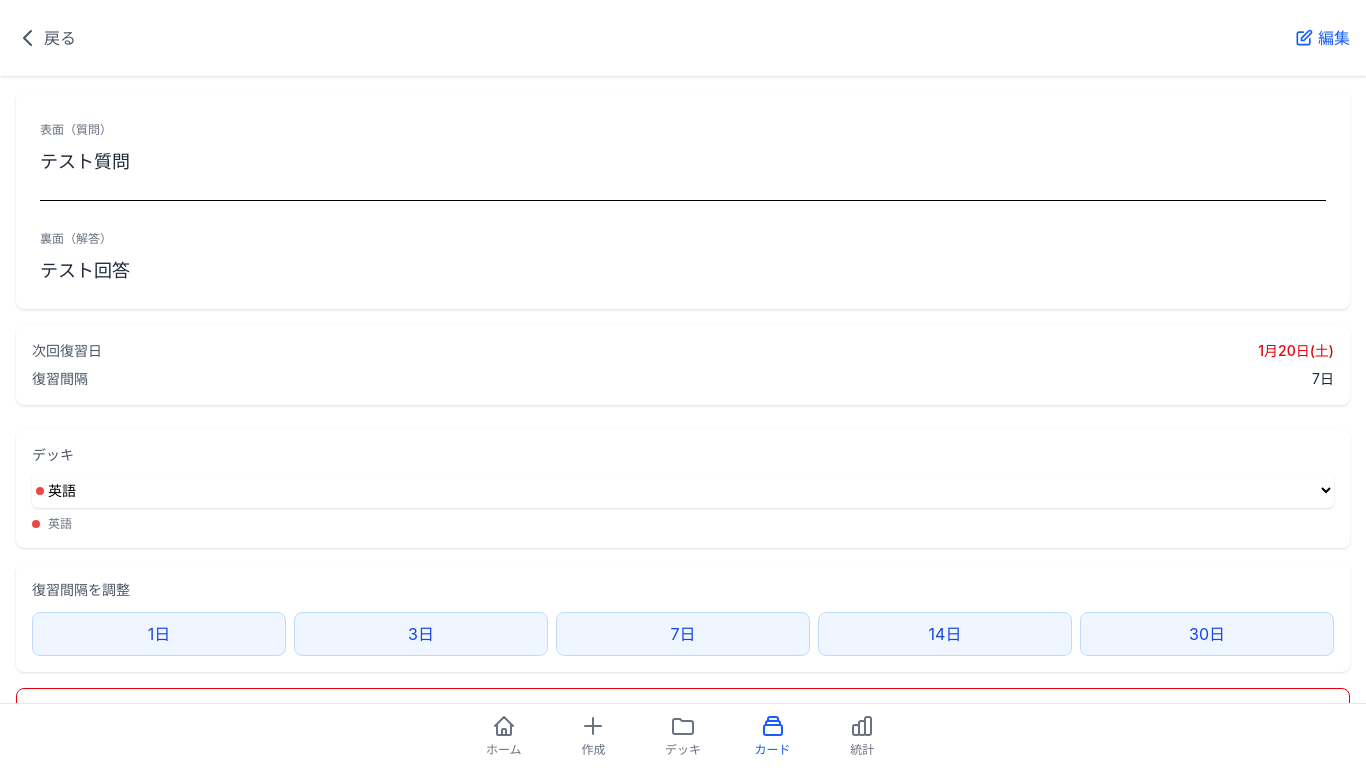
Test: CardDetailPage › テストケース4: カードの保存 › 保存成功時に成功メッセージが表示される
Click the button with test id "edit-button".
click(1322, 38)  # box 1294,16 -> 1350,60
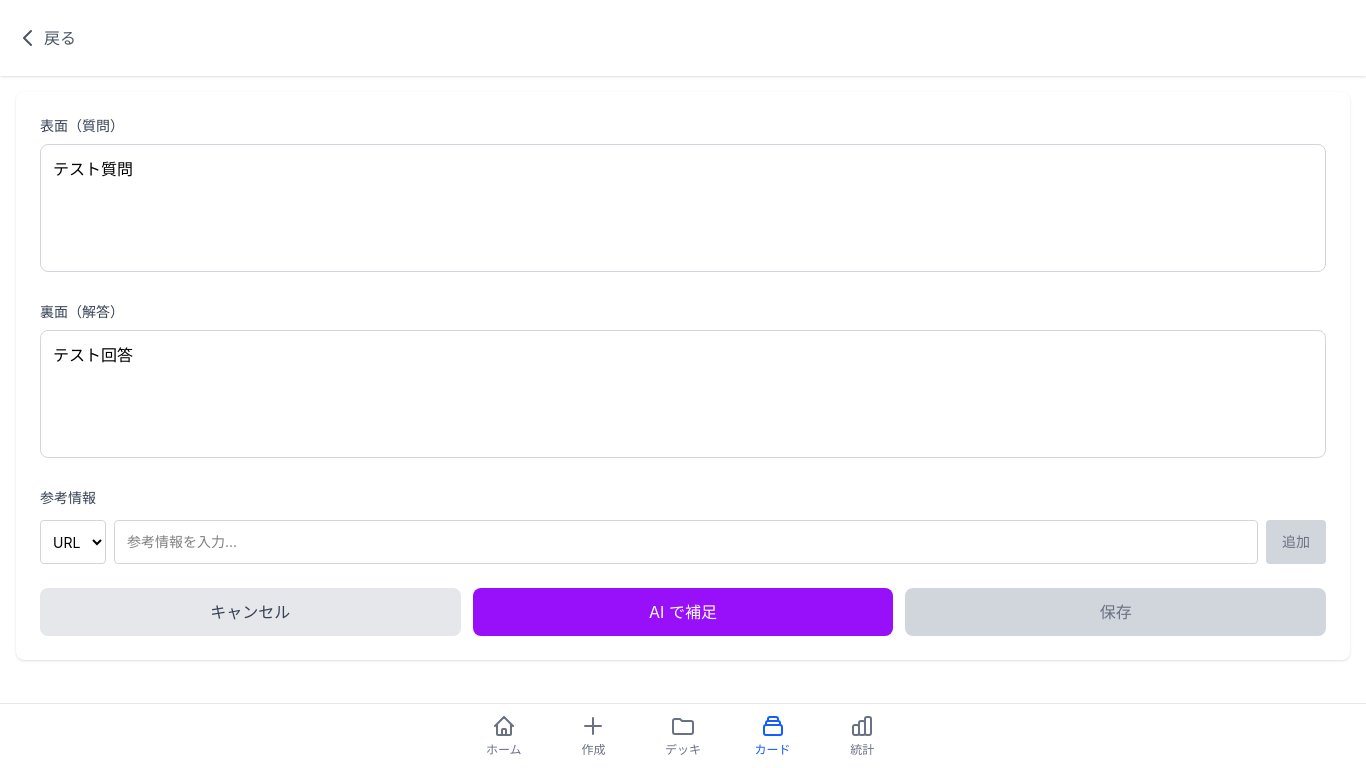
Replace the text in the text box with test id "input-front" with "更新された質問" at (683, 208), box 40,144 -> 1326,272
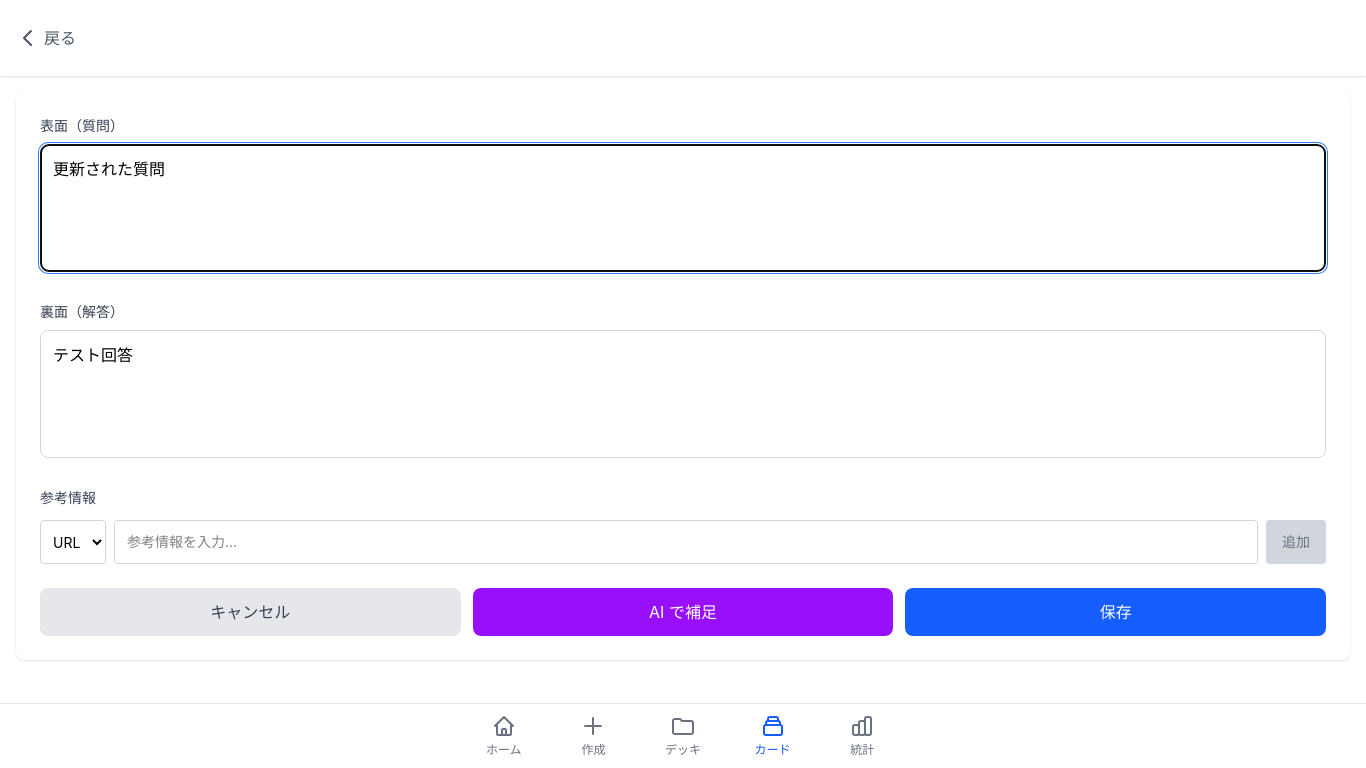
Click the button with test id "save-button".
click(1116, 612)  # box 905,588 -> 1326,636
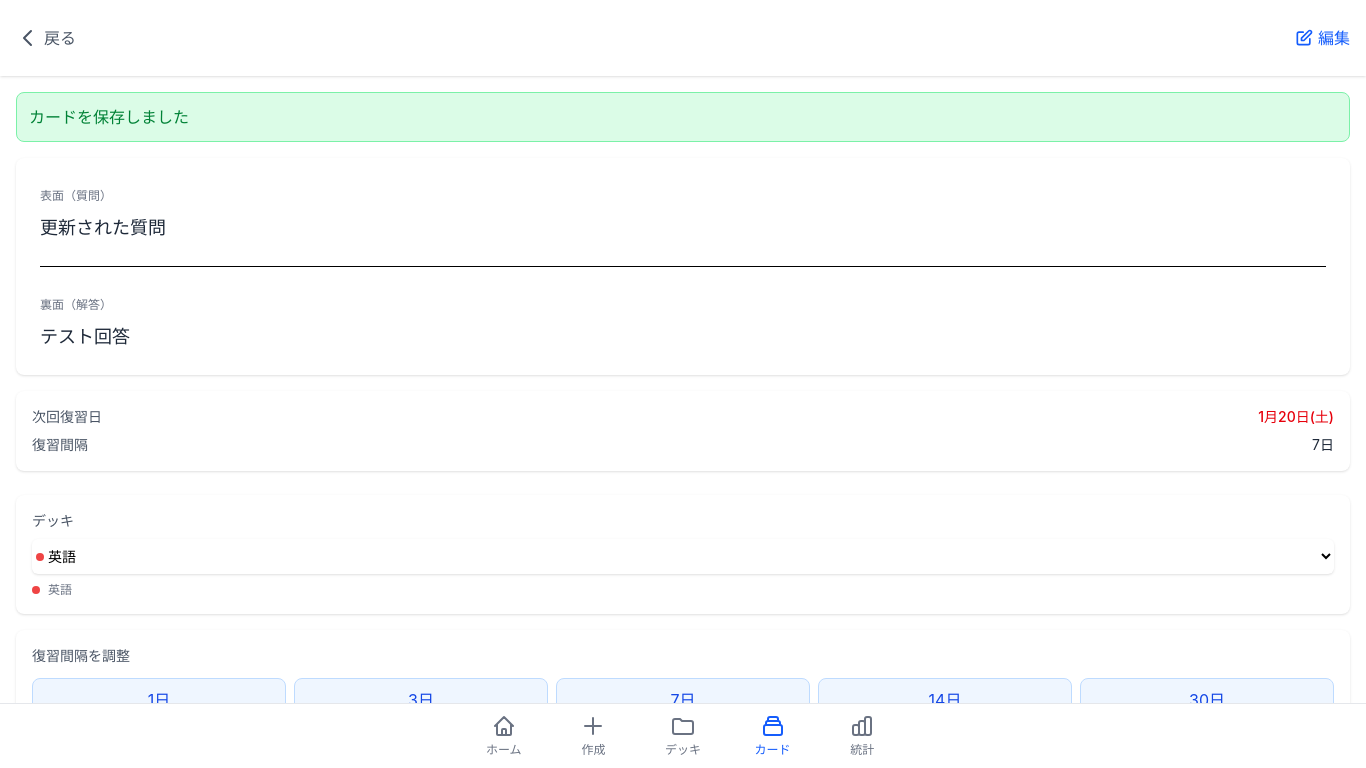
Expected: the text with test id "success-message" reads "カードを保存しました", 29,107 -> 189,127
